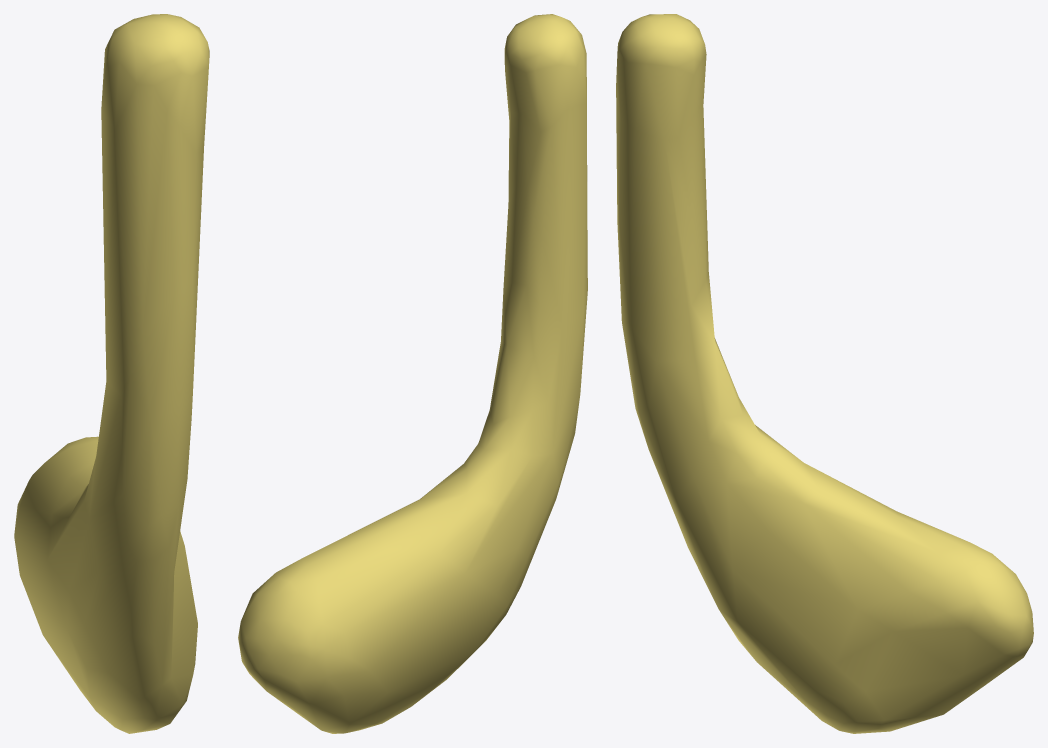
The model's file is nasolacrimal-duct-r.glb.
3 renders of one model, left to right at view 1: azimuth 30°, elevation 25°; view 2: azimuth 150°, elevation 25°; view 3: azimuth 270°, elevation 25°, orthographic. The views are drawn at different scales.
Parts seen in each view (by area): view 1: Nasolacrimal duct.r; view 2: Nasolacrimal duct.r; view 3: Nasolacrimal duct.r.
Boxes of the visible parts, left/top/right/bottom form: Nasolacrimal duct.r: left=14, top=14, right=209, bottom=733; Nasolacrimal duct.r: left=238, top=14, right=587, bottom=733; Nasolacrimal duct.r: left=616, top=14, right=1033, bottom=733.
Size of the model in its own units: 0.00598 by 0.0206 by 0.0116.
